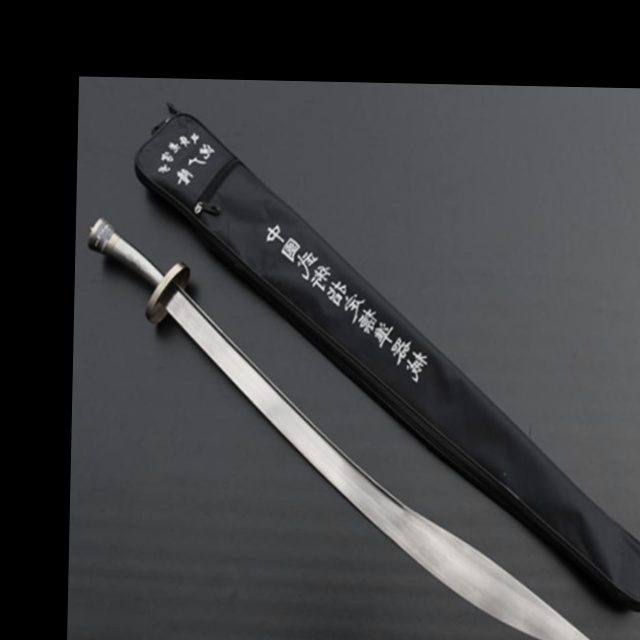Sharp-Object: (96, 264, 615, 640)
